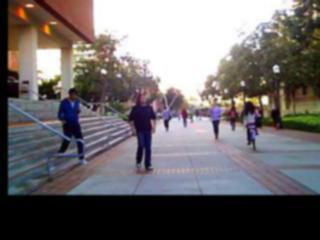Escaleras: (9, 121, 139, 185), (8, 98, 101, 117)
